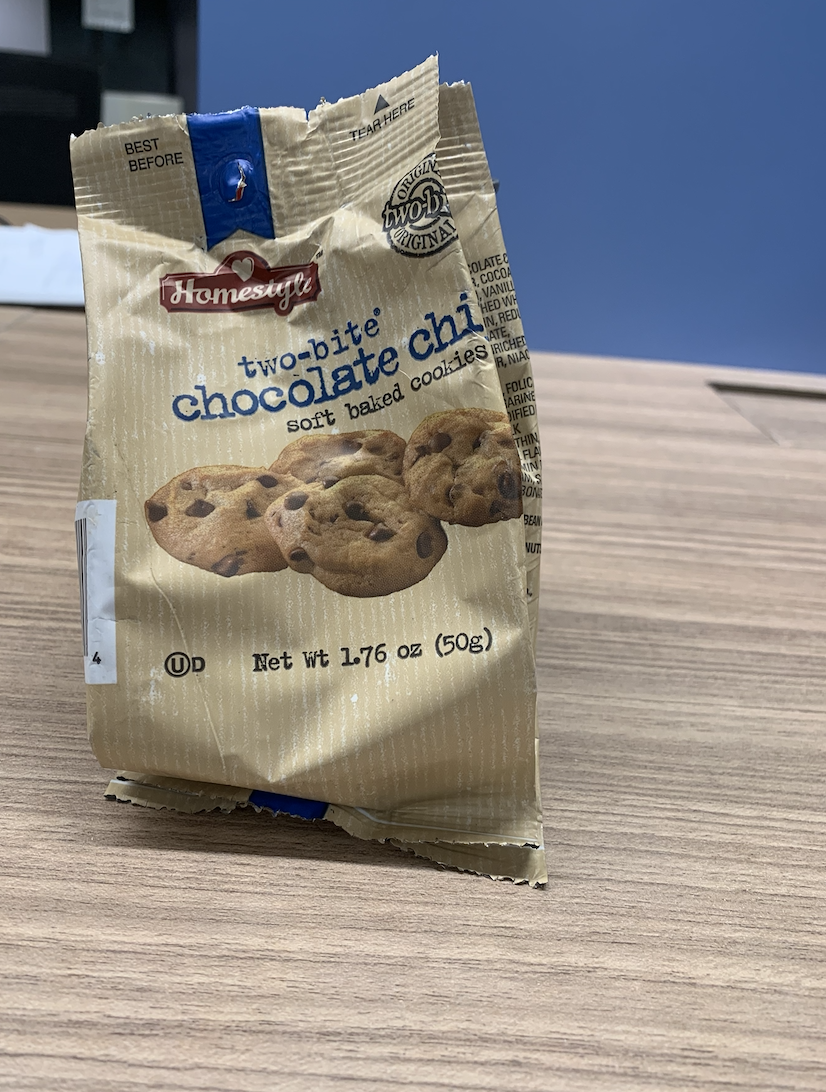cookies_50g: (103, 130, 520, 811)
